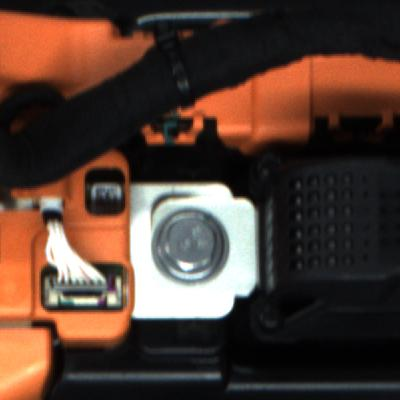nut_b: (145, 205, 235, 294)
